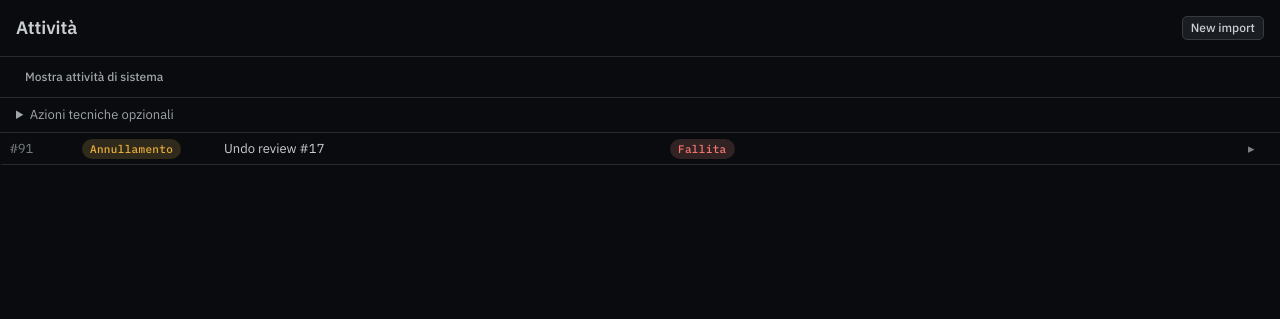
Scenario: Jobs undo activity summary › counts only fully undone files as restored in a partial result
Click the button "Undo review #17" at [640, 149], box [0,133,1279,165]
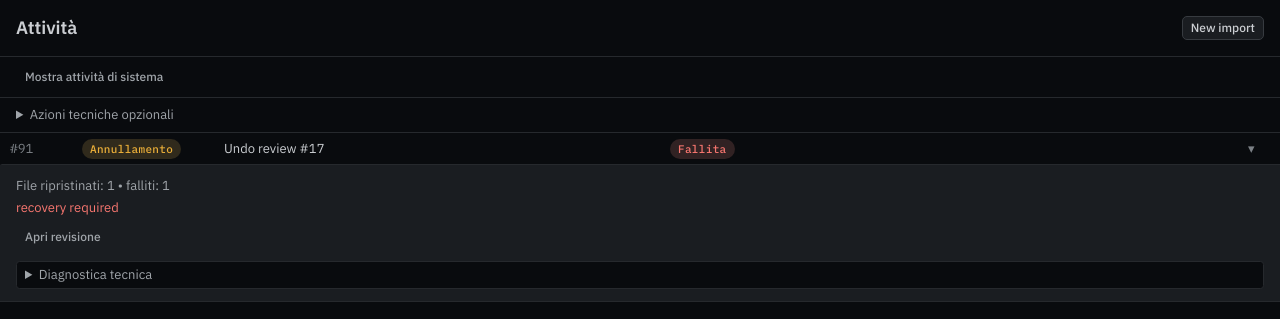
Check: the text "File ripristinati: 1 • falliti: 1" is shown, box [16,177,170,194]
